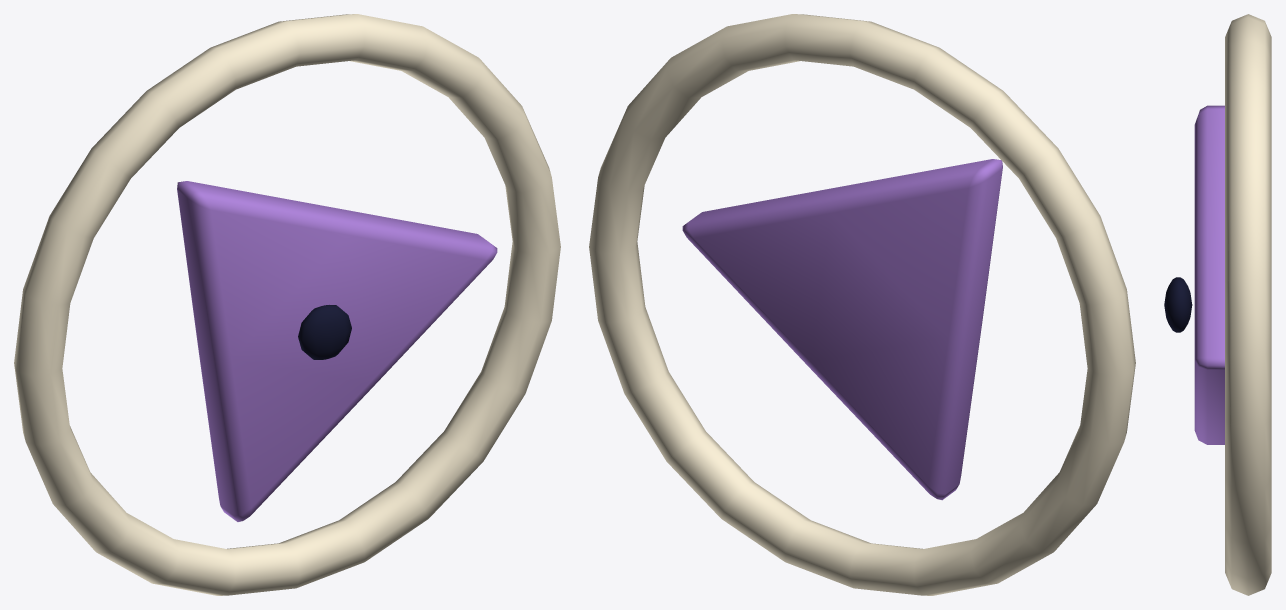
Rendered from r062_dungeon_puzzle_symbols_symbol_07.glb.
The picture shows the model from 3 angles, left to right: view 1: azimuth 30°, elevation 25°; view 2: azimuth 150°, elevation 25°; view 3: azimuth 270°, elevation 25°; orthographic projection. The views are drawn at different scales.
Visible parts, largest first — view 1: r062_dungeon_puzzle_symbols_symbol_07.001; view 2: r062_dungeon_puzzle_symbols_symbol_07.001; view 3: r062_dungeon_puzzle_symbols_symbol_07.001.
Part boxes in pixels (x1,y1,x2,y2): r062_dungeon_puzzle_symbols_symbol_07.001: (14, 14, 560, 595); r062_dungeon_puzzle_symbols_symbol_07.001: (589, 14, 1135, 595); r062_dungeon_puzzle_symbols_symbol_07.001: (1164, 14, 1271, 595).
Size of the model in its own units: 2.5 by 2.5 by 0.46.
